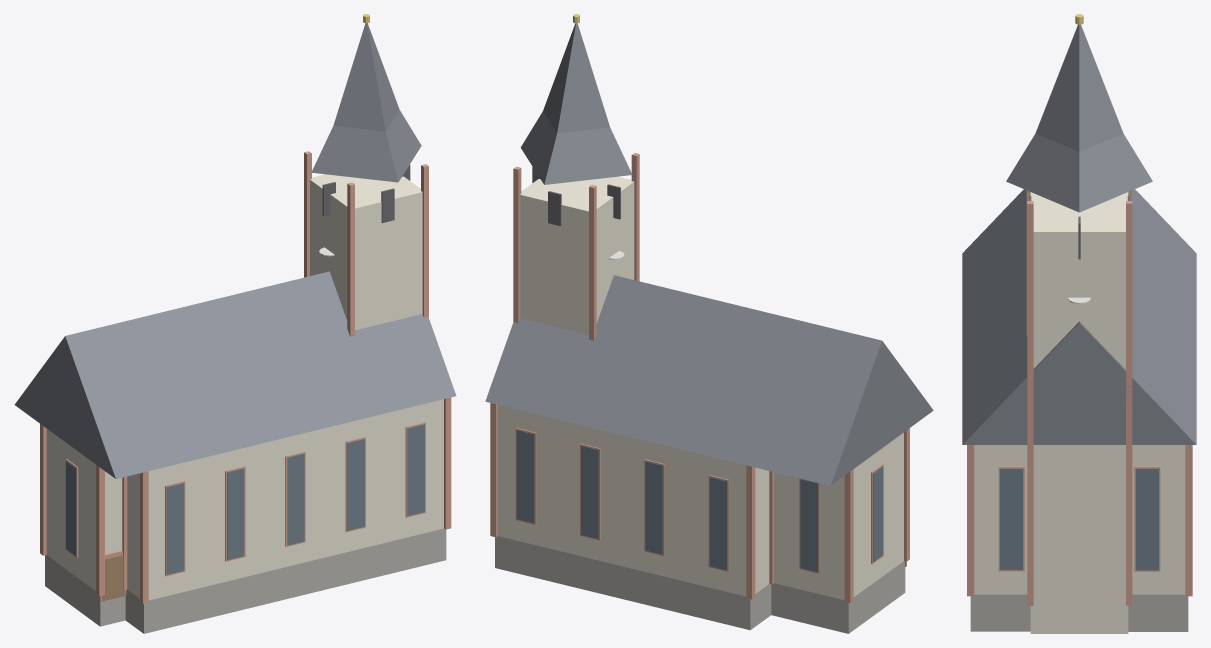
The model's file is church-277927901.glb.
The picture shows the model from 3 angles, left to right: view 1: azimuth 30°, elevation 25°; view 2: azimuth 150°, elevation 25°; view 3: azimuth 270°, elevation 25°; orthographic projection. The views are drawn at different scales.
Parts seen in each view (by area): view 1: building; view 2: building; view 3: building.
Boxes of the visible parts, box(x1,y1,x2,y2) form: building: box(14, 14, 456, 633); building: box(485, 14, 933, 633); building: box(962, 14, 1196, 633).
Bounding box in the file's own units: 28.92 × 40.18 × 14.27.
